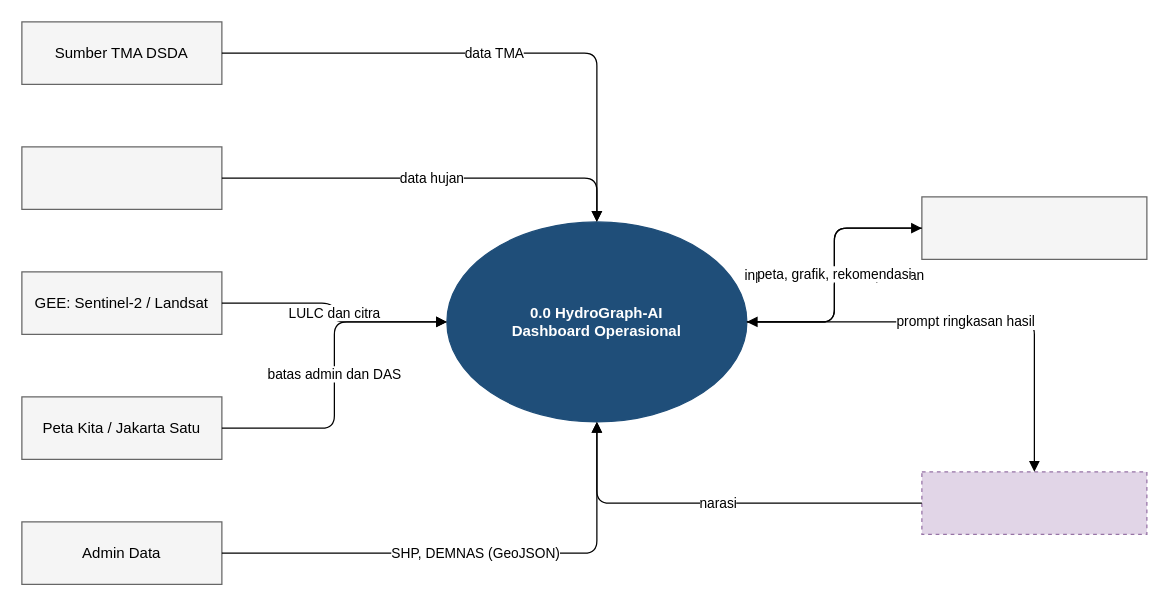
Image size: 1169x606. Some labels were removed from this diagram. The shapes that lost their labels are listed below. From the top down, each one's centre as x and y in pixels, then its label:
At pixel 121 177: "BMKG / CHIRPS".
At pixel 1034 227: "Operator BPBD/DSDA".
At pixel 1034 502: "Layanan LLM".
